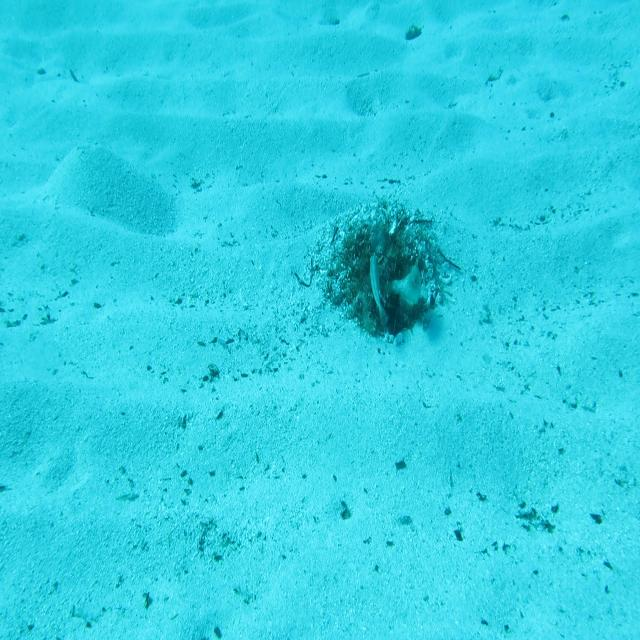DAN_CIRC: (382, 259, 422, 310)
female: (367, 252, 390, 330)
nest: (329, 200, 454, 347)
